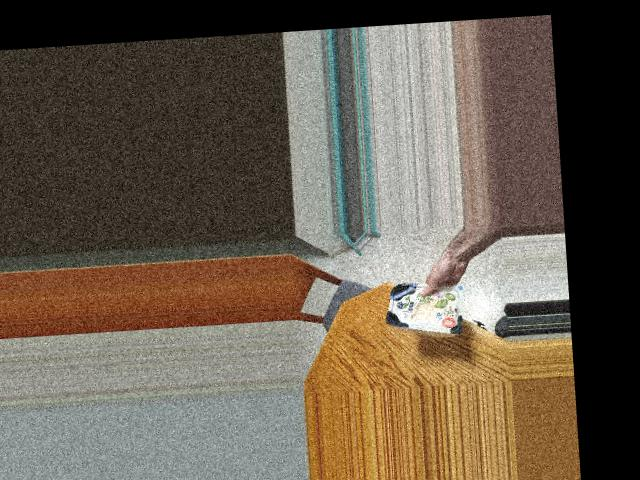cheese: (384, 277, 464, 340)
